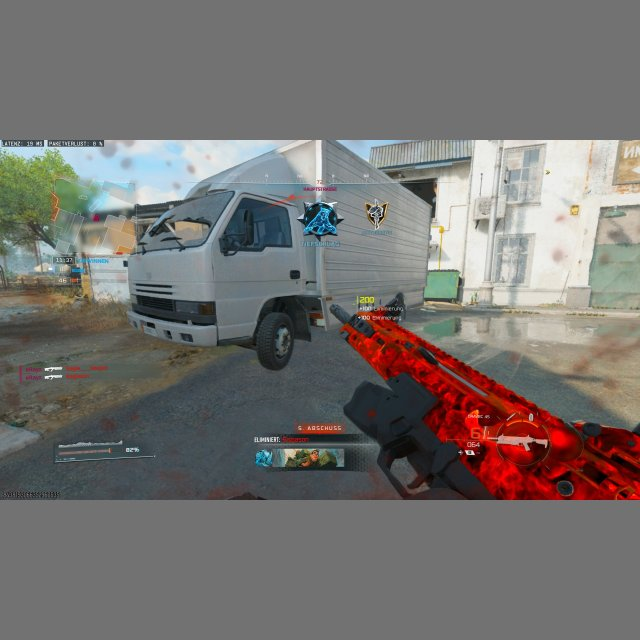player: (301, 201, 344, 236)
